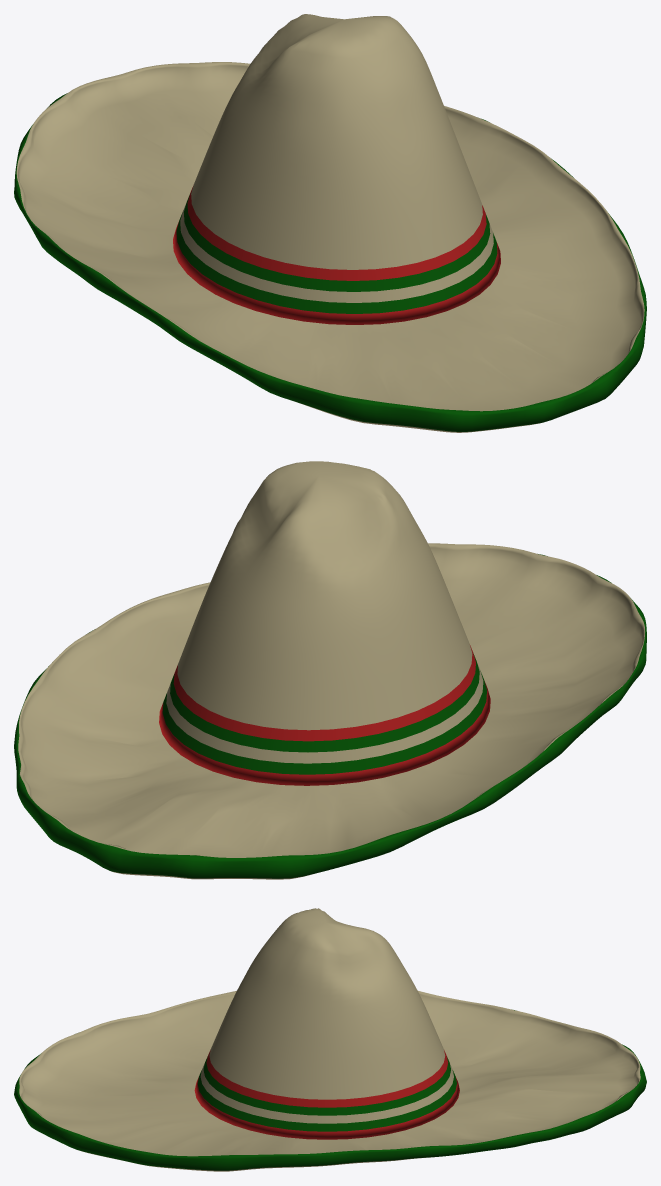
Rendered from SombreroGeo 1.fbx.
3 views of the same model, one above another, from view 1: azimuth 30°, elevation 25°; view 2: azimuth 150°, elevation 25°; view 3: azimuth 270°, elevation 25° (orthographic). The views are drawn at different scales.
Visible parts, largest first — view 1: sombrerogeo; view 2: sombrerogeo; view 3: sombrerogeo.
Part boxes in pixels (bbox=[...]): sombrerogeo: bbox=[14, 14, 646, 432]; sombrerogeo: bbox=[14, 461, 646, 879]; sombrerogeo: bbox=[14, 908, 646, 1171].
Bounding box in the file's own units: 113 × 62.05 × 180.
